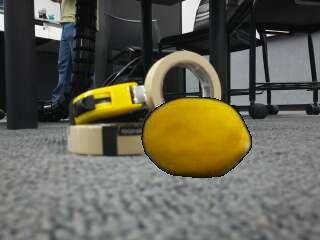lemon: (143, 98, 250, 176)
